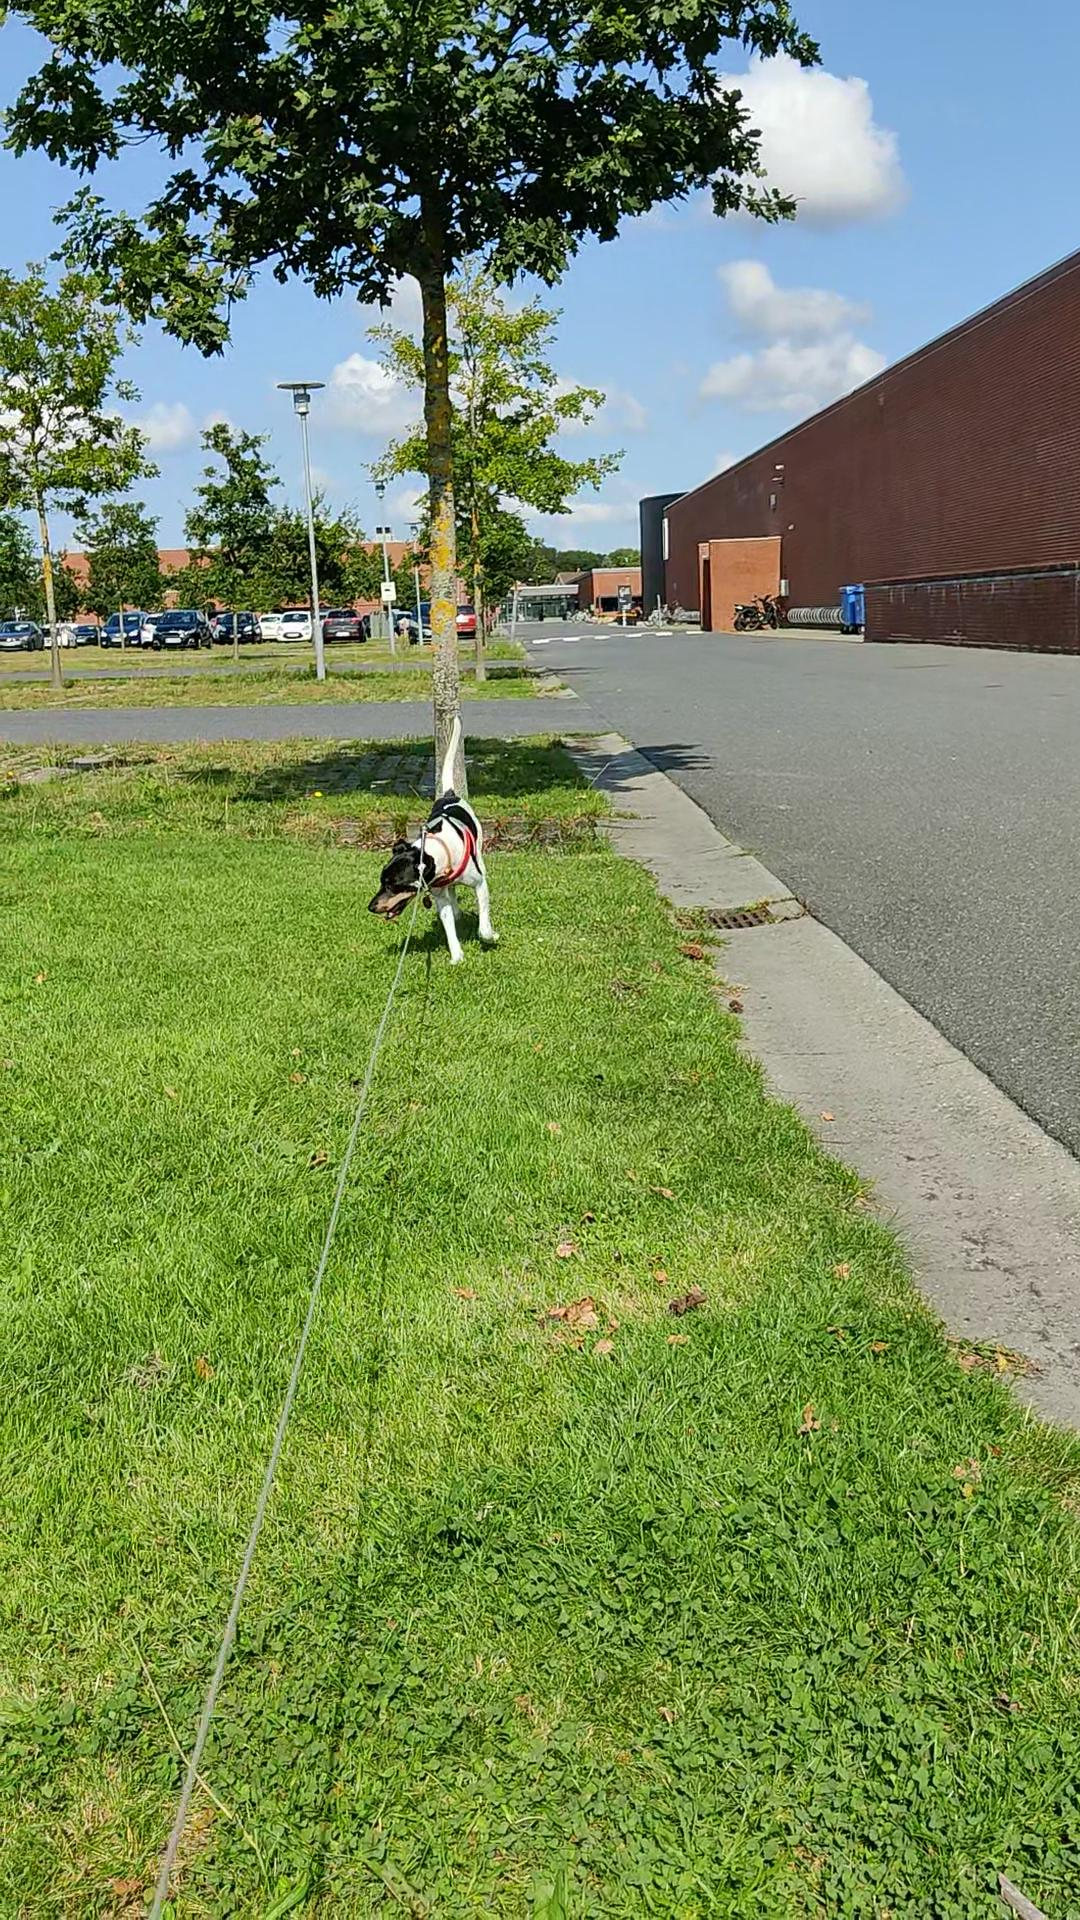Dog: (367, 713, 502, 967)
